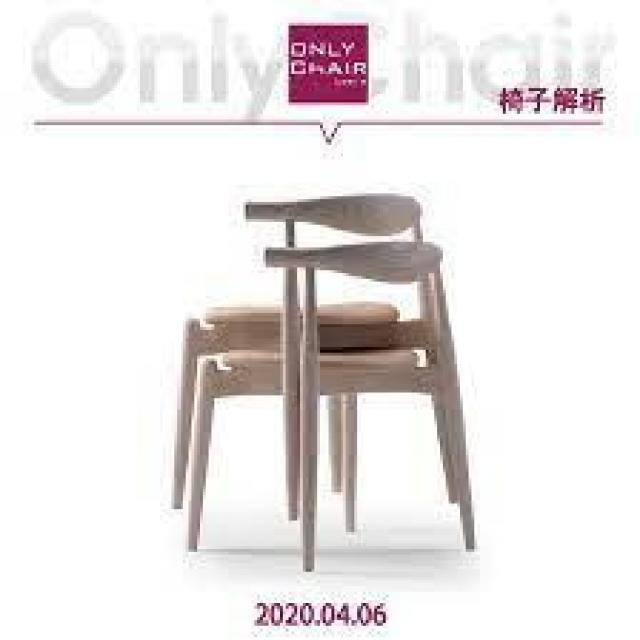chair: (143, 153, 503, 578)
